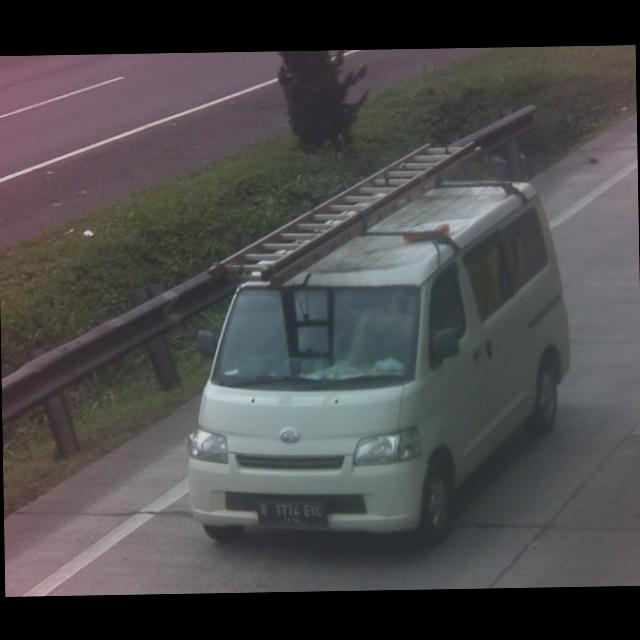plate: (255, 496, 326, 528)
